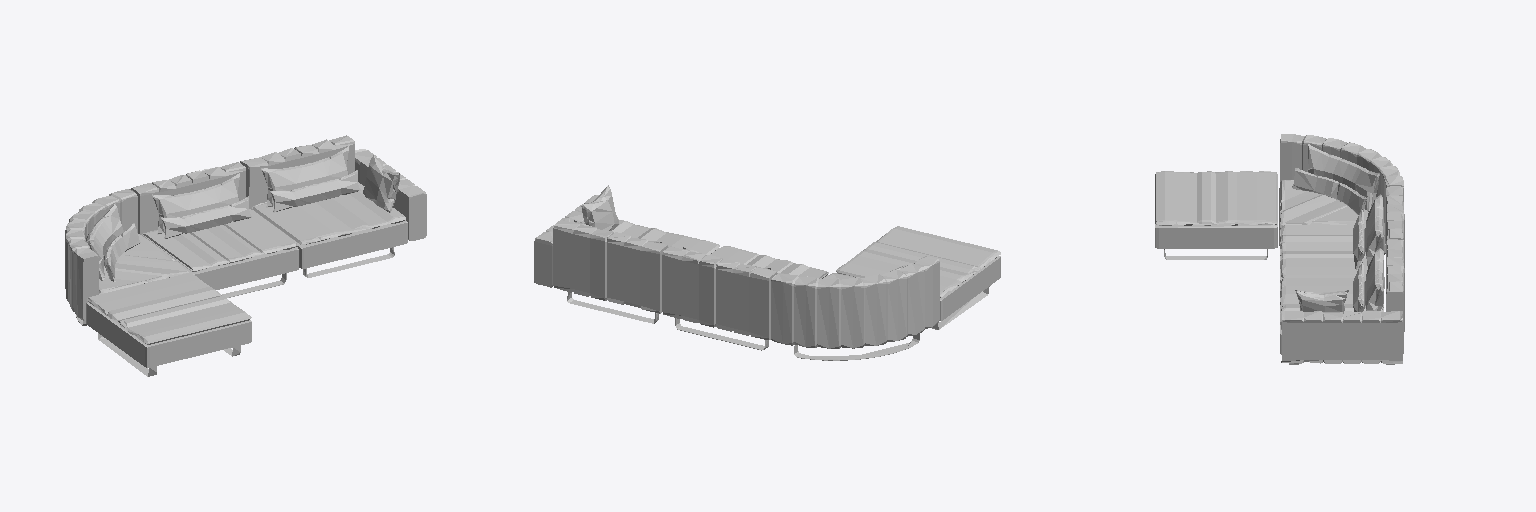
File: sofapok1.obj
3 views of the same model, side by side, from view 1: azimuth 30°, elevation 25°; view 2: azimuth 150°, elevation 25°; view 3: azimuth 270°, elevation 25° (orthographic).
Parts seen in each view (by area): view 1: polySurface11 sofapok_sofapok_sofapok_Mesh1; view 2: polySurface11 sofapok_sofapok_sofapok_Mesh1; view 3: polySurface11 sofapok_sofapok_sofapok_Mesh1.
Boxes of the visible parts, x1=… form: polySurface11 sofapok_sofapok_sofapok_Mesh1: x1=65, y1=135, x2=426, y2=376; polySurface11 sofapok_sofapok_sofapok_Mesh1: x1=534, y1=185, x2=1000, y2=360; polySurface11 sofapok_sofapok_sofapok_Mesh1: x1=1155, y1=134, x2=1404, y2=364.
Size of the model in its own units: 4.86 by 1.08 by 3.05.